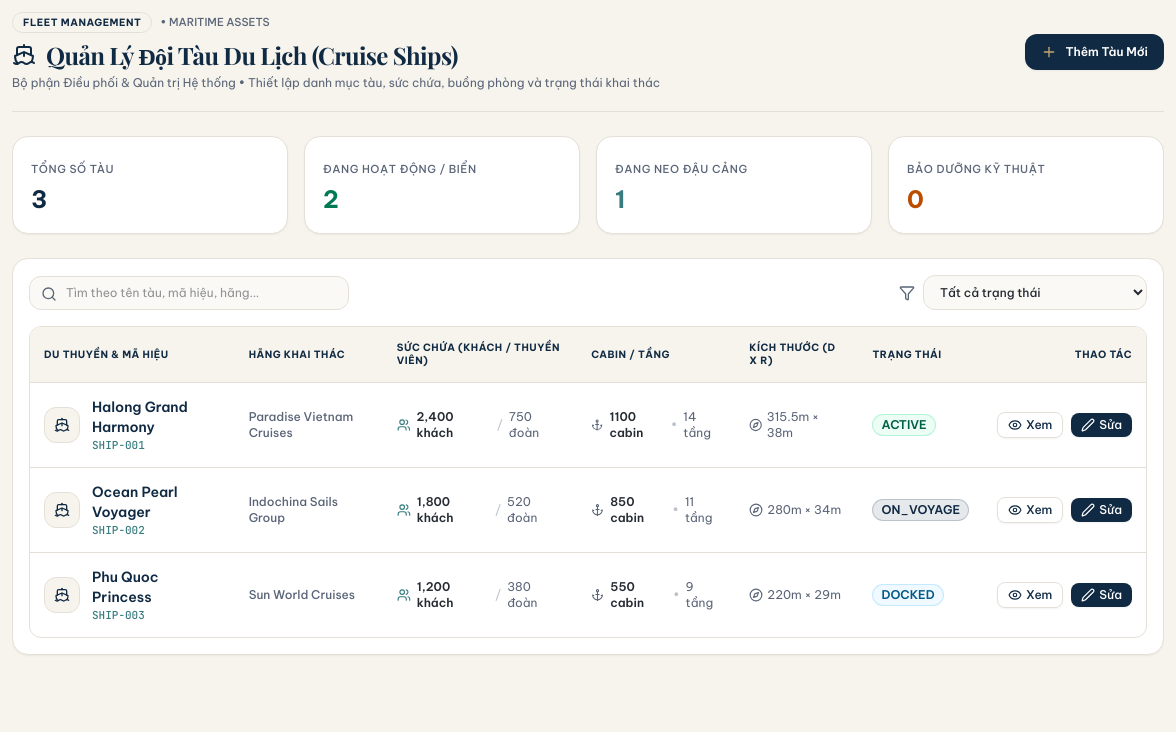
ShipsPage Component Tests › filters ships by status dropdown and displays empty state when none match
Select "DOCKED" in the dropdown named "Lọc theo trạng thái" at (1035, 292), box [923,275,1147,310]
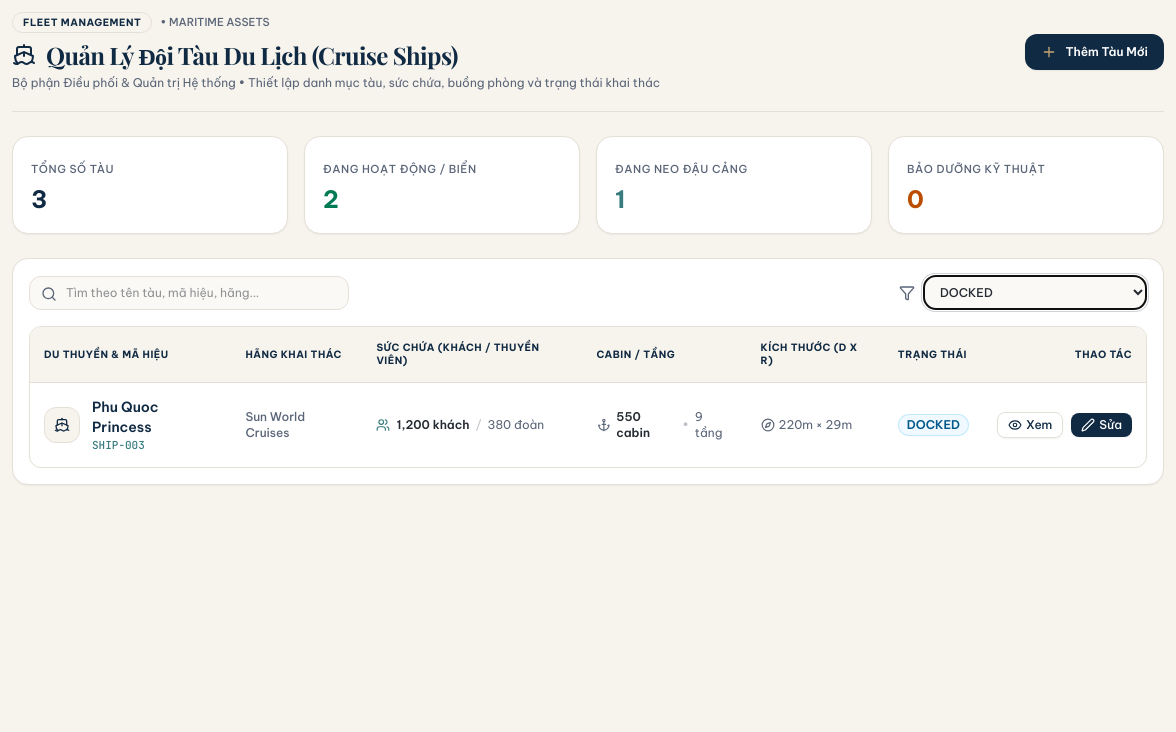
Expected: the text "Phu Quoc Princess" is shown, [92,398,159,436]
Now the text "Halong Grand Harmony" is gone
Type "XYZ_NOT_FOUND" into the search field named "Tìm kiếm tàu du lịch" at (189, 292), box [29,276,349,310]
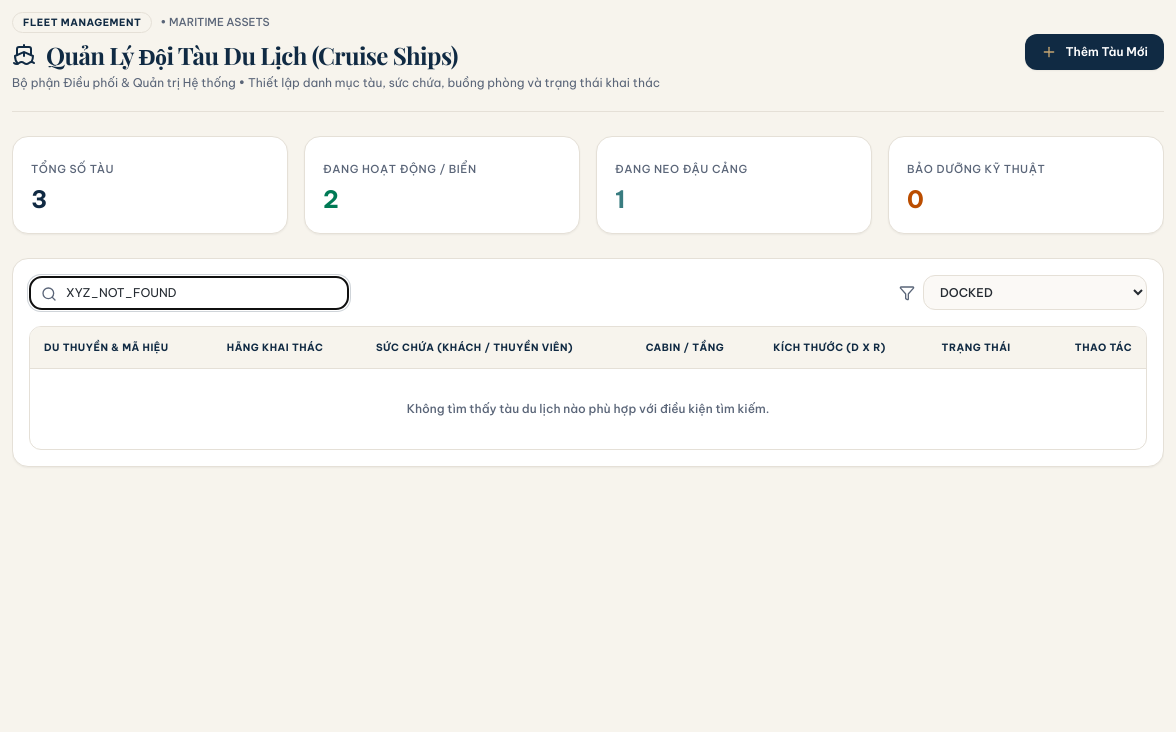
Now the text "Không tìm thấy tàu du lịch nào phù hợp" is shown, box [407,401,769,416]
